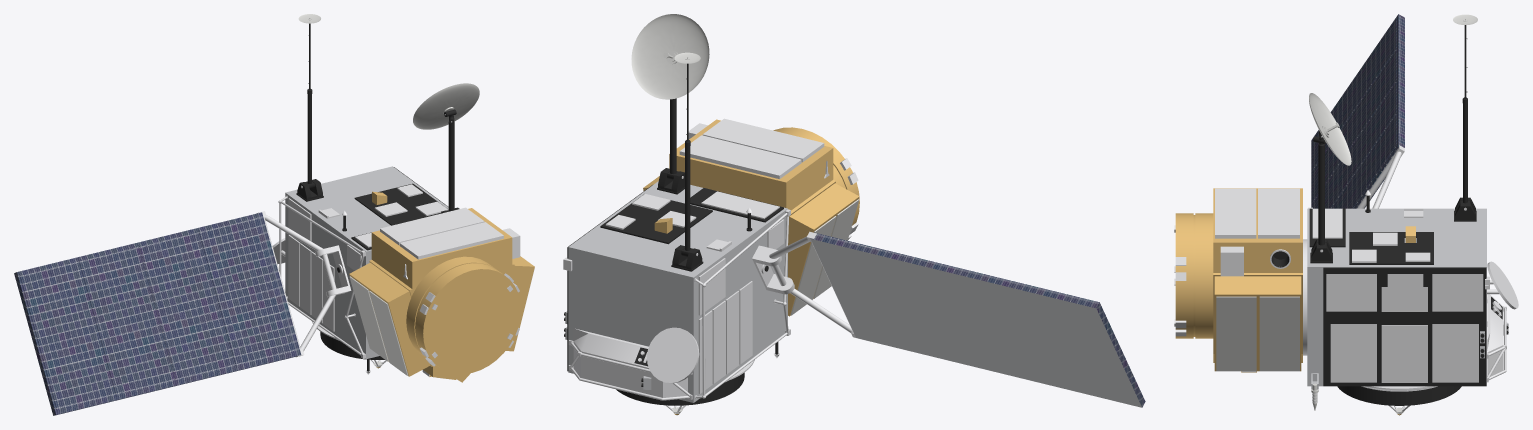
The model's file is topex-poseidon.glb.
3 renders of one model, left to right at view 1: azimuth 30°, elevation 25°; view 2: azimuth 150°, elevation 25°; view 3: azimuth 270°, elevation 25°, orthographic. The views are drawn at different scales.
Parts seen in each view (by area): view 1: Topex-Posidon-composite; view 2: Topex-Posidon-composite; view 3: Topex-Posidon-composite.
Boxes of the visible parts, left/top/right/bottom form: Topex-Posidon-composite: left=14, top=14, right=534, bottom=415; Topex-Posidon-composite: left=563, top=14, right=1145, bottom=415; Topex-Posidon-composite: left=1174, top=14, right=1518, bottom=415.
Bounding box in the file's own units: 11.5 × 8.54 × 7.09.
Materials: 6 (1 with a texture image).
